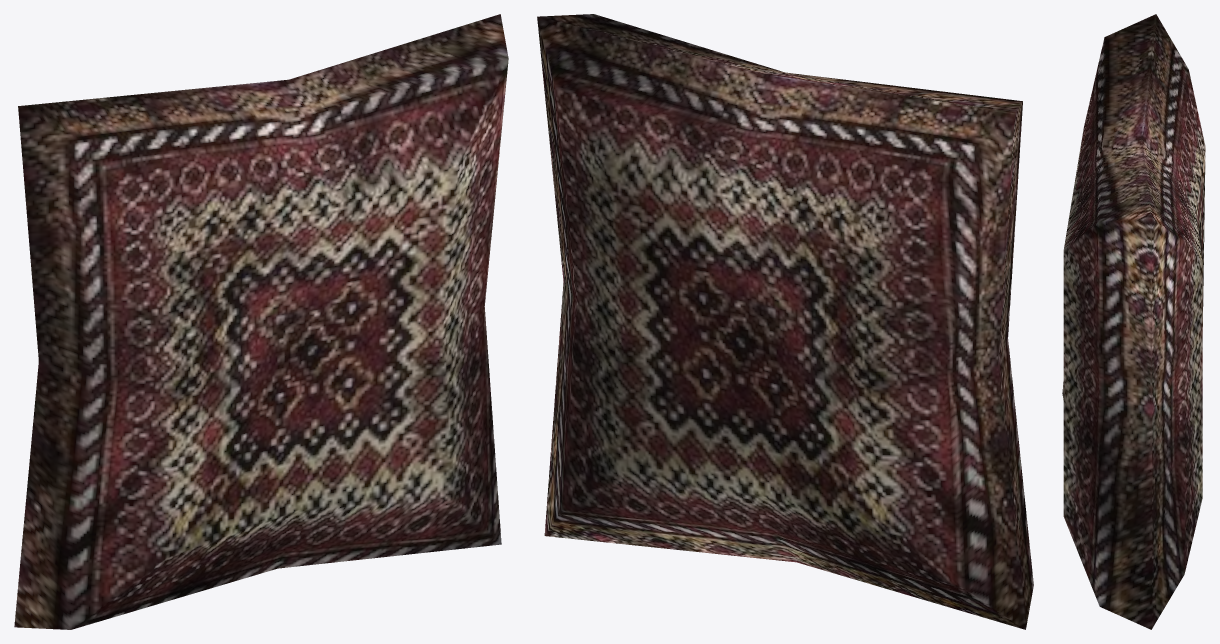
File: prop_pillow2.glb
3 views of the same model, side by side, from view 1: azimuth 30°, elevation 25°; view 2: azimuth 150°, elevation 25°; view 3: azimuth 270°, elevation 25° (orthographic). The views are drawn at different scales.
Bounding box in the file's own units: 21.01 × 22.23 × 6.68.
1 material, 1 textured.
